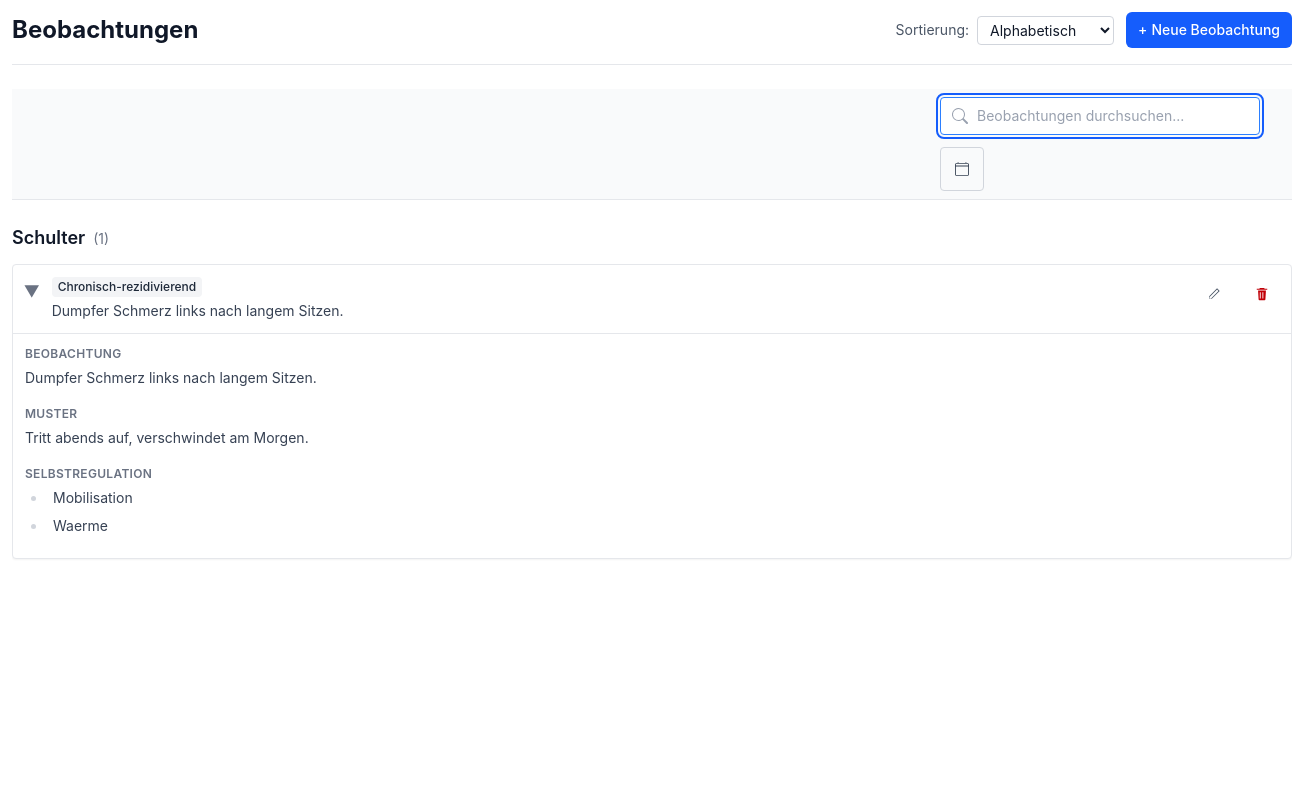
Test: ObservationsView › search (O-17) › renders the date range filter only after the user opens Stage 2 via the calendar toggle
The width and height of the screenshot is (1304, 812).
Click the button with test id "calendar-toggle" at (962, 169), box x1=940 y1=147 x2=984 y2=191
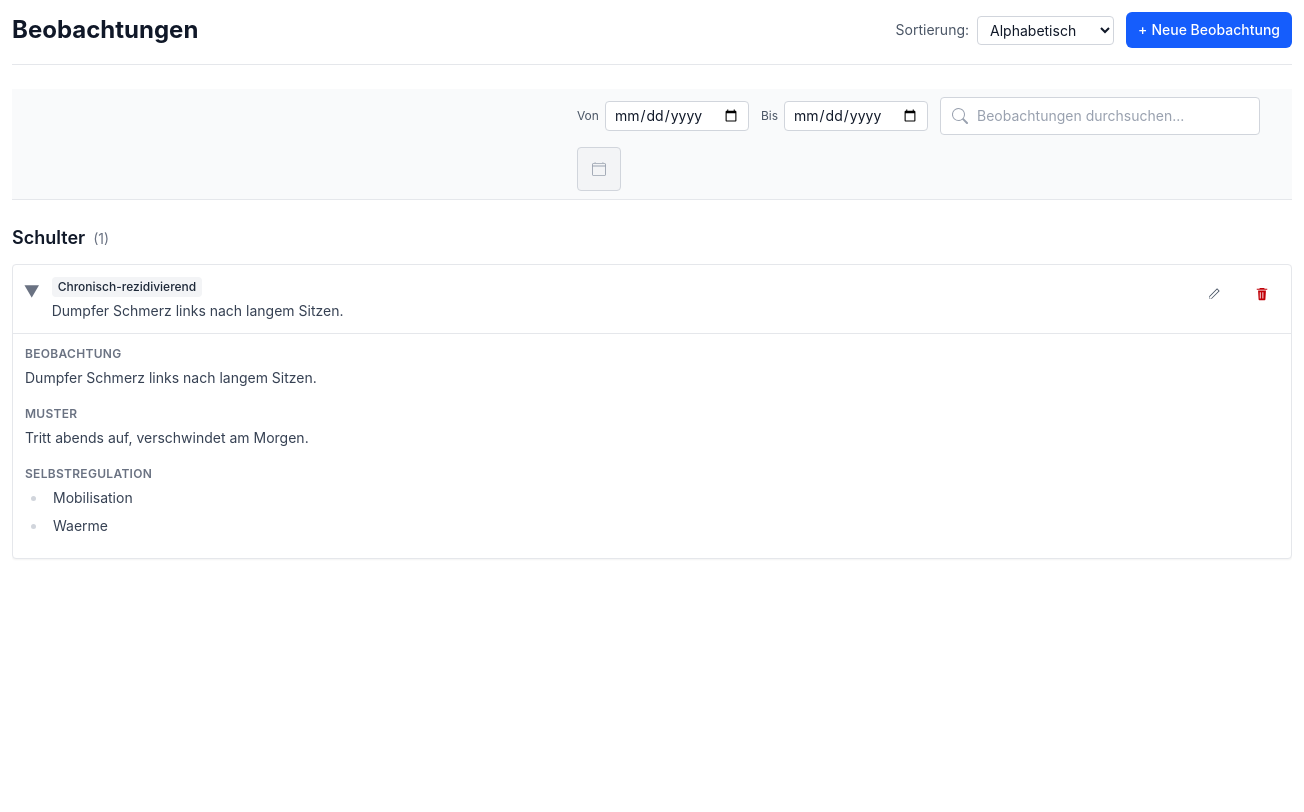
expect the element with test id "date-range-filter" is shown: met, box x1=577 y1=101 x2=928 y2=131
